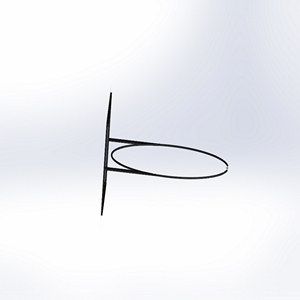circle: (95, 91, 232, 215)
